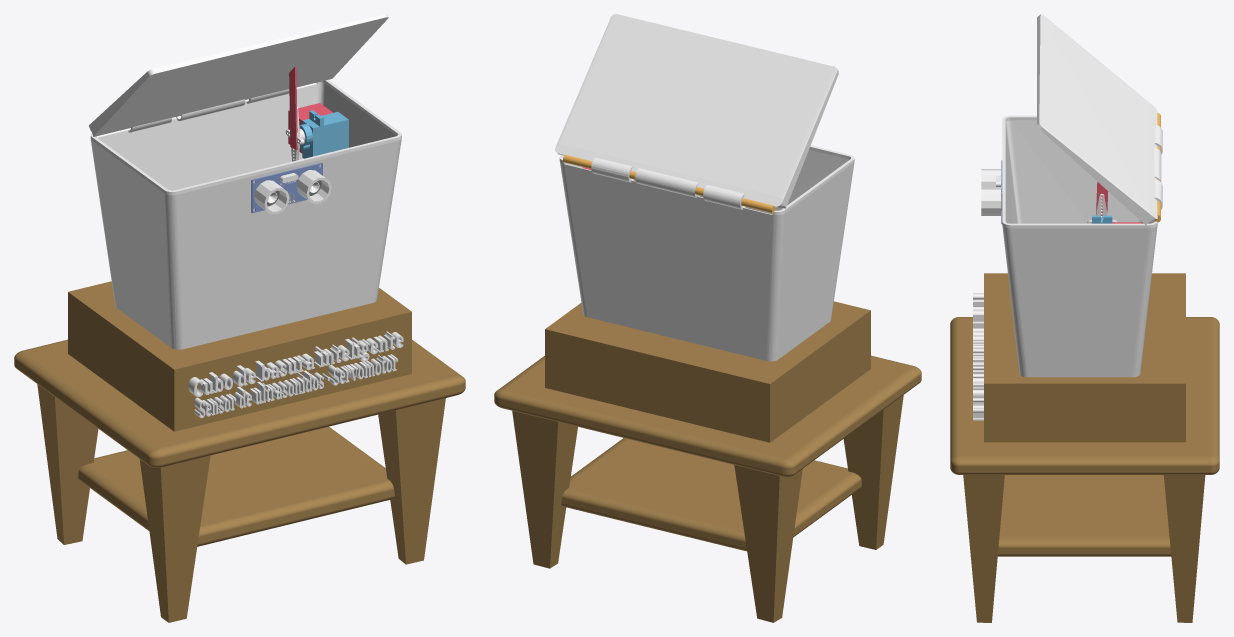
File: basurero.glb
The picture shows the model from 3 angles, left to right: view 1: azimuth 30°, elevation 25°; view 2: azimuth 150°, elevation 25°; view 3: azimuth 270°, elevation 25°; orthographic projection. The views are drawn at different scales.
Parts seen in each view (by area): view 1: Mesh_Mesh_head_geo.001_lambert2SG.001, Mesh_Mesh_head_geo.001_lambert2SG.002; view 2: Mesh_Mesh_head_geo.001_lambert2SG.002, Mesh_Mesh_head_geo.001_lambert2SG.001; view 3: Mesh_Mesh_head_geo.001_lambert2SG.001, Mesh_Mesh_head_geo.001_lambert2SG.002.
Part boxes in pixels (x1=…): Mesh_Mesh_head_geo.001_lambert2SG.001: x1=14, y1=281, x2=465, y2=622; Mesh_Mesh_head_geo.001_lambert2SG.002: x1=89, y1=14, x2=401, y2=349; Mesh_Mesh_head_geo.001_lambert2SG.002: x1=555, y1=14, x2=854, y2=361; Mesh_Mesh_head_geo.001_lambert2SG.001: x1=494, y1=301, x2=921, y2=622; Mesh_Mesh_head_geo.001_lambert2SG.001: x1=950, y1=273, x2=1219, y2=622; Mesh_Mesh_head_geo.001_lambert2SG.002: x1=981, y1=14, x2=1162, y2=377.
Size of the model in its own units: 4.16 by 6.59 by 3.23.
